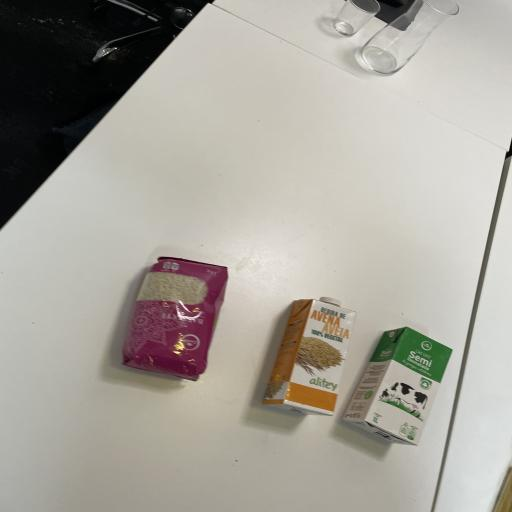milk: (338, 321, 458, 454)
oat_milk: (258, 292, 356, 427)
rice: (111, 254, 234, 382)
